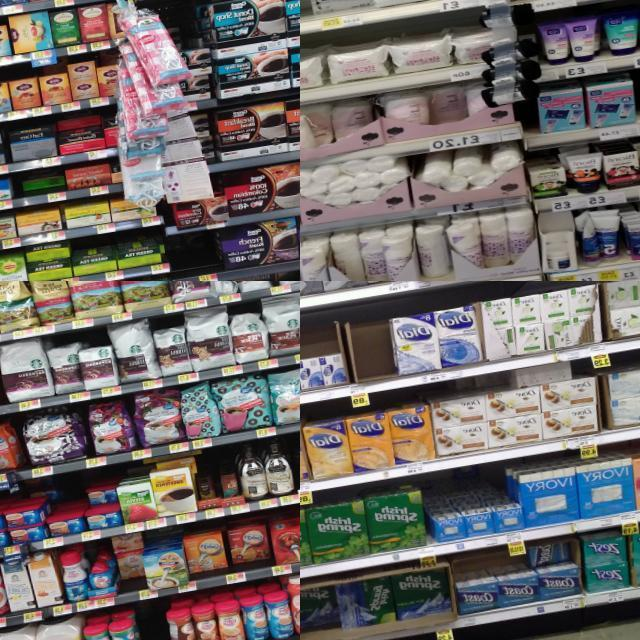Imprecise: (514, 363, 576, 438), (567, 206, 640, 264), (108, 530, 150, 595), (7, 166, 66, 195), (432, 84, 466, 125)
